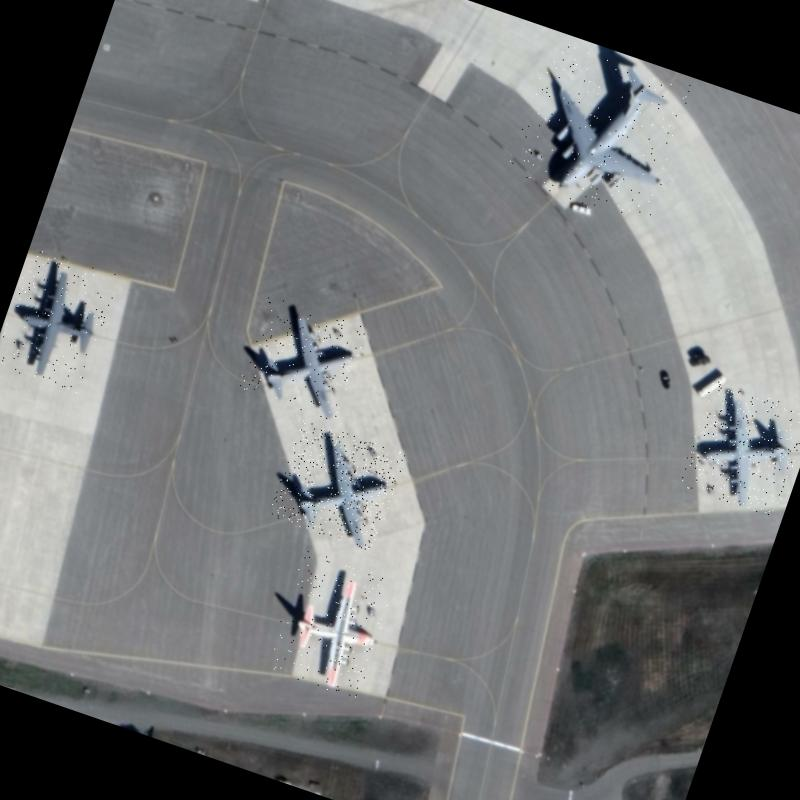A2: (264, 548, 398, 702), (268, 418, 407, 552), (0, 246, 120, 394), (676, 378, 800, 518), (236, 294, 368, 422)
A3: (504, 34, 696, 229)
